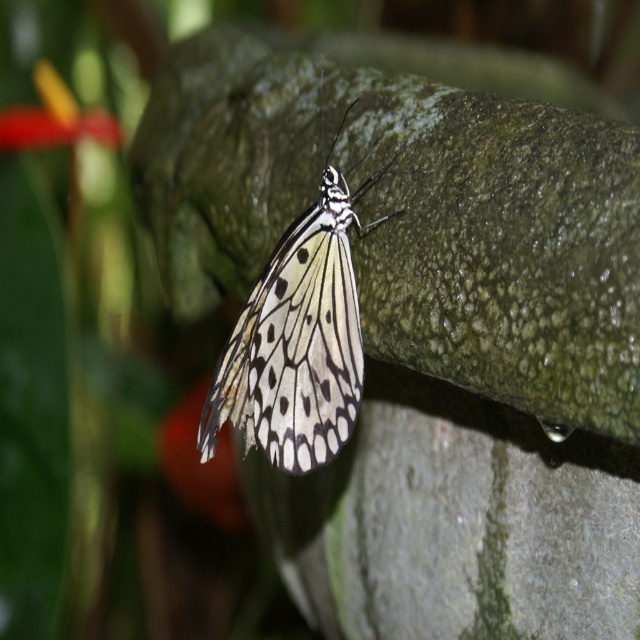Butterfly: (201, 110, 406, 491)
